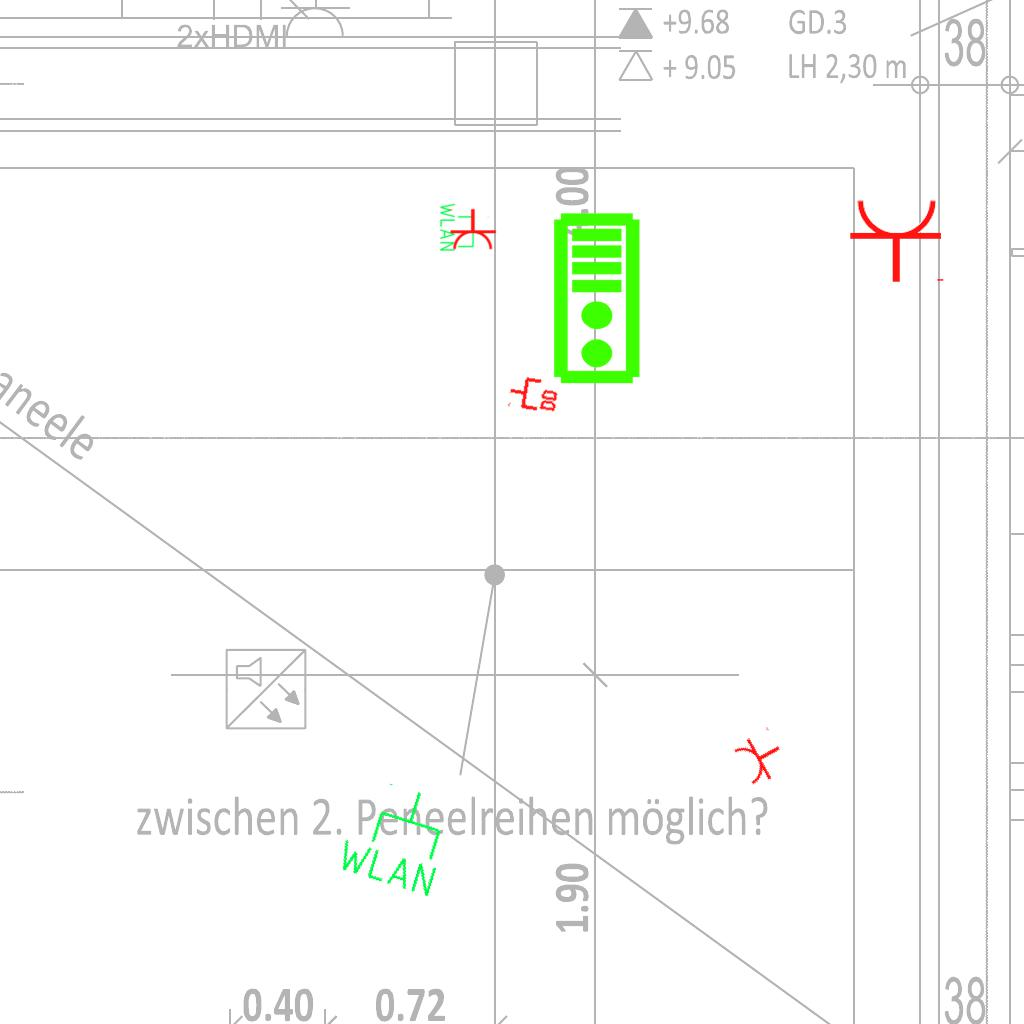Datenanschluss_zweifach: (506, 372, 562, 415)
Gegensprechanlage_mit_Video: (551, 211, 646, 387)
Schukosteckdose_einfach: (848, 197, 948, 284), (729, 724, 792, 790), (447, 208, 497, 251)
WLAN: (330, 771, 462, 902), (438, 201, 490, 253)
